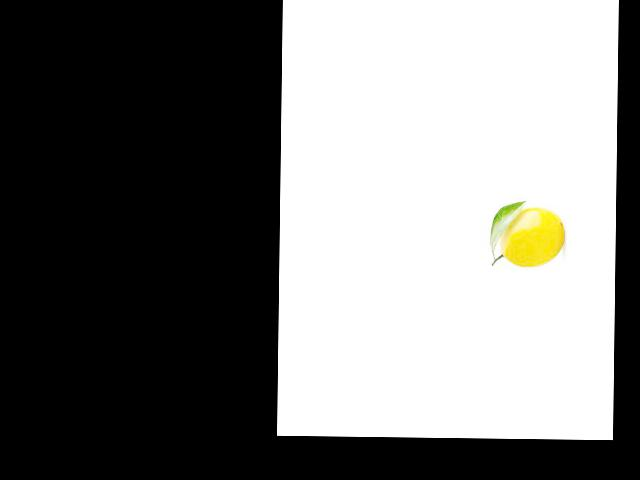lemon: (494, 203, 570, 271)
